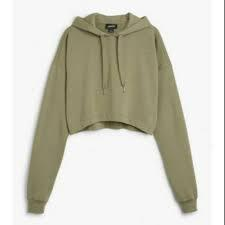sweater: (14, 7, 210, 222)
